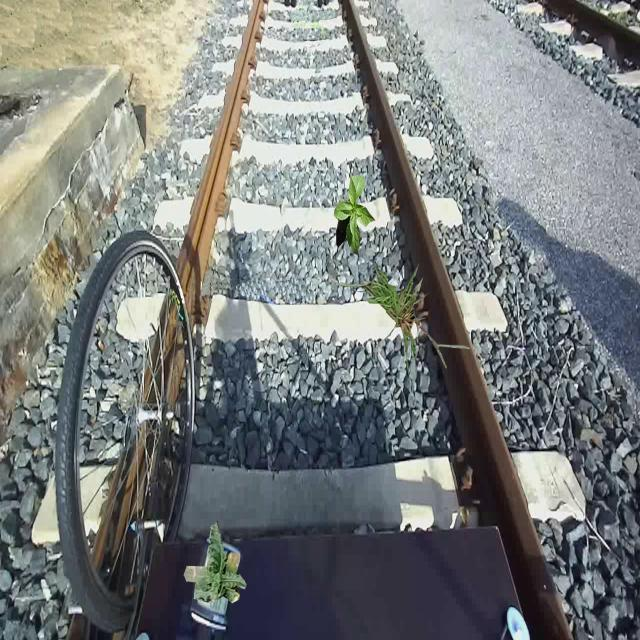Plant: (327, 260, 470, 380), (183, 521, 247, 604), (334, 175, 376, 255)
